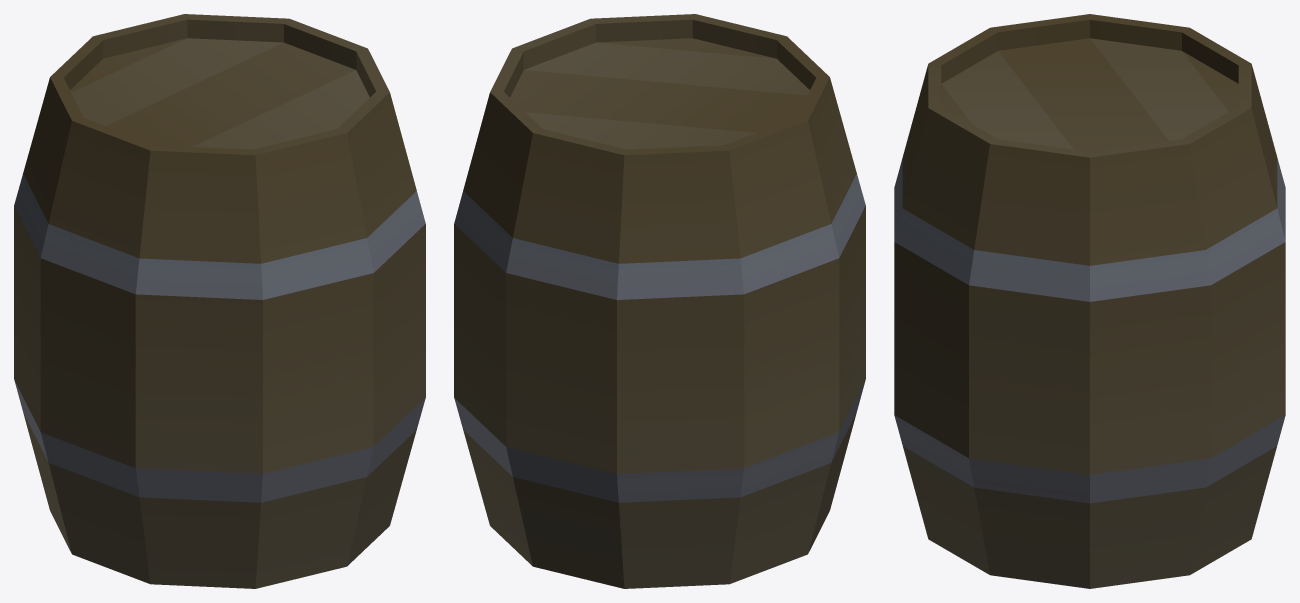
The model's file is Barrel_1A_LOD1.fbx.
3 views of the same model, side by side, from view 1: azimuth 30°, elevation 25°; view 2: azimuth 150°, elevation 25°; view 3: azimuth 270°, elevation 25° (orthographic).
Visible parts, largest first — view 1: pCylinder1; view 2: pCylinder1; view 3: pCylinder1.
Part boxes in pixels (x1,y1,x2,y2): pCylinder1: (14,14,425,588); pCylinder1: (454,14,865,588); pCylinder1: (894,14,1285,588).
Bounding box in the file's own units: 145 × 168 × 138.
